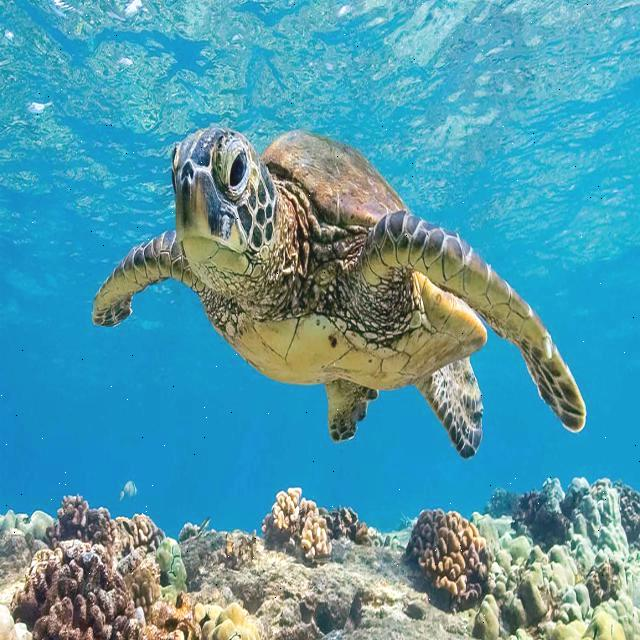tortoise: (71, 113, 599, 475)
